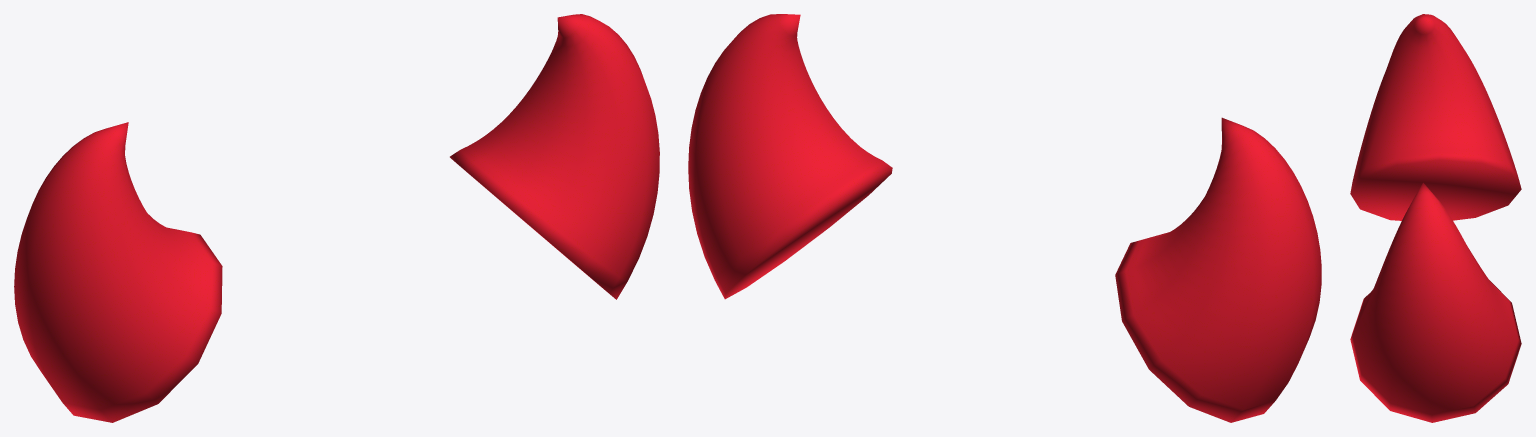
The model's file is Acc_HornsR1.glb.
The picture shows the model from 3 angles, left to right: view 1: azimuth 30°, elevation 25°; view 2: azimuth 150°, elevation 25°; view 3: azimuth 270°, elevation 25°; orthographic projection. The views are drawn at different scales.
Parts seen in each view (by area): view 1: HornsR1; view 2: HornsR1; view 3: HornsR1.
Part boxes in pixels (x1,y1,x2,y2): HornsR1: (14,14,659,422); HornsR1: (688,14,1321,422); HornsR1: (1350,14,1521,422).
Size of the model in its own units: 0.9766 by 0.4278 by 0.2994.
Materials: 1 (1 with a texture image).
